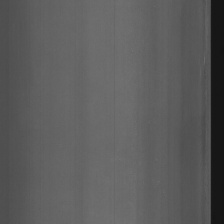silk_spot: (196, 18, 209, 111)
